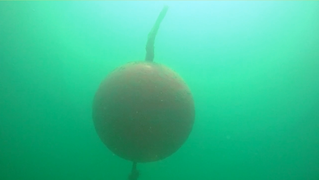bubble: (225, 134, 231, 140), (31, 8, 36, 12)
buoy: (91, 59, 195, 163)
